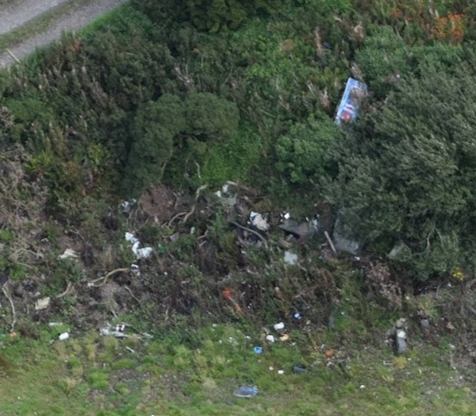cuboid: (331, 72, 372, 133)
scattered_barrel: (27, 221, 176, 356), (228, 306, 352, 405)
together_barrel: (206, 177, 369, 277)
